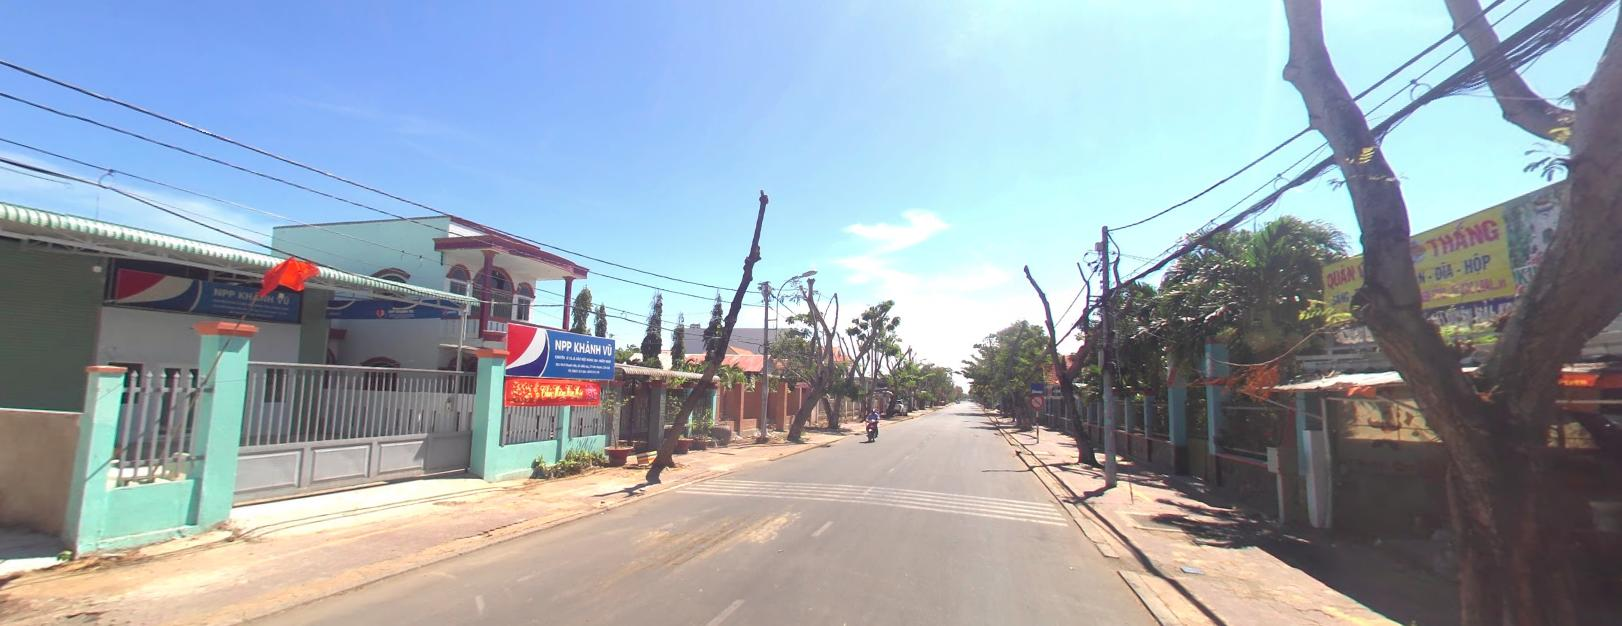Cam con lai: (1030, 393, 1044, 407), (1030, 393, 1044, 406), (1031, 394, 1043, 406)
